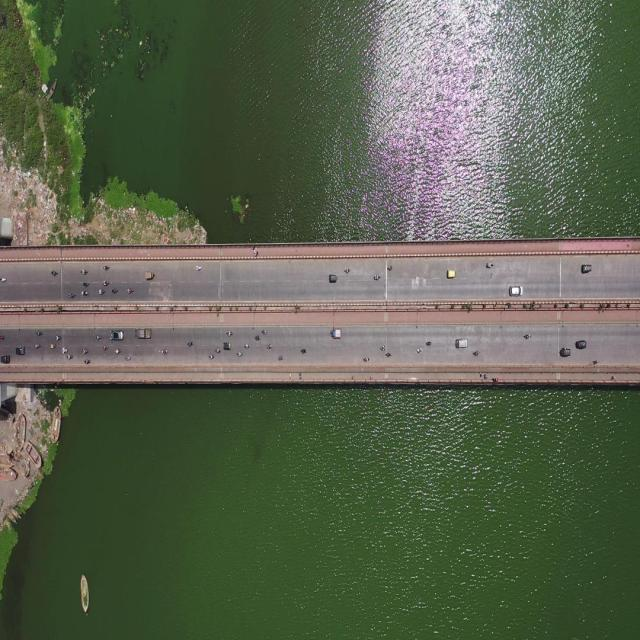3W: (326, 325, 343, 345), (326, 274, 346, 290), (580, 260, 595, 279), (445, 266, 459, 282), (222, 339, 234, 353), (575, 338, 589, 349), (146, 268, 156, 282), (560, 346, 571, 358)
Bus: (135, 326, 154, 339)
Cars: (507, 280, 525, 298), (109, 331, 125, 342)
M2W: (470, 347, 486, 362), (67, 289, 79, 305), (186, 338, 198, 354), (358, 354, 371, 368), (78, 267, 93, 277), (264, 339, 275, 352), (424, 337, 434, 350), (484, 259, 494, 272), (92, 331, 102, 343), (124, 351, 133, 364), (49, 270, 59, 281), (160, 346, 170, 357), (343, 265, 353, 276), (522, 332, 532, 343), (103, 279, 112, 291), (386, 264, 396, 274), (35, 328, 44, 339), (299, 346, 308, 357), (384, 352, 395, 361), (80, 290, 92, 298), (0, 275, 8, 286), (261, 326, 269, 337), (243, 343, 252, 352), (84, 358, 92, 368), (101, 344, 109, 354), (193, 265, 203, 273), (225, 330, 233, 340), (253, 334, 261, 344), (0, 332, 6, 344), (54, 334, 62, 343), (82, 280, 91, 288), (113, 285, 119, 297), (126, 286, 135, 294), (114, 344, 120, 356), (416, 348, 424, 357), (214, 347, 222, 355), (372, 274, 381, 281), (380, 343, 386, 353), (98, 288, 105, 296), (101, 263, 109, 270), (236, 351, 243, 359), (277, 354, 284, 362), (50, 342, 56, 351), (82, 348, 88, 357), (208, 353, 214, 362), (62, 342, 66, 355), (32, 344, 42, 349), (67, 355, 74, 362), (412, 343, 416, 349)
Truck: (455, 332, 469, 352), (0, 354, 14, 369), (15, 345, 28, 358)
